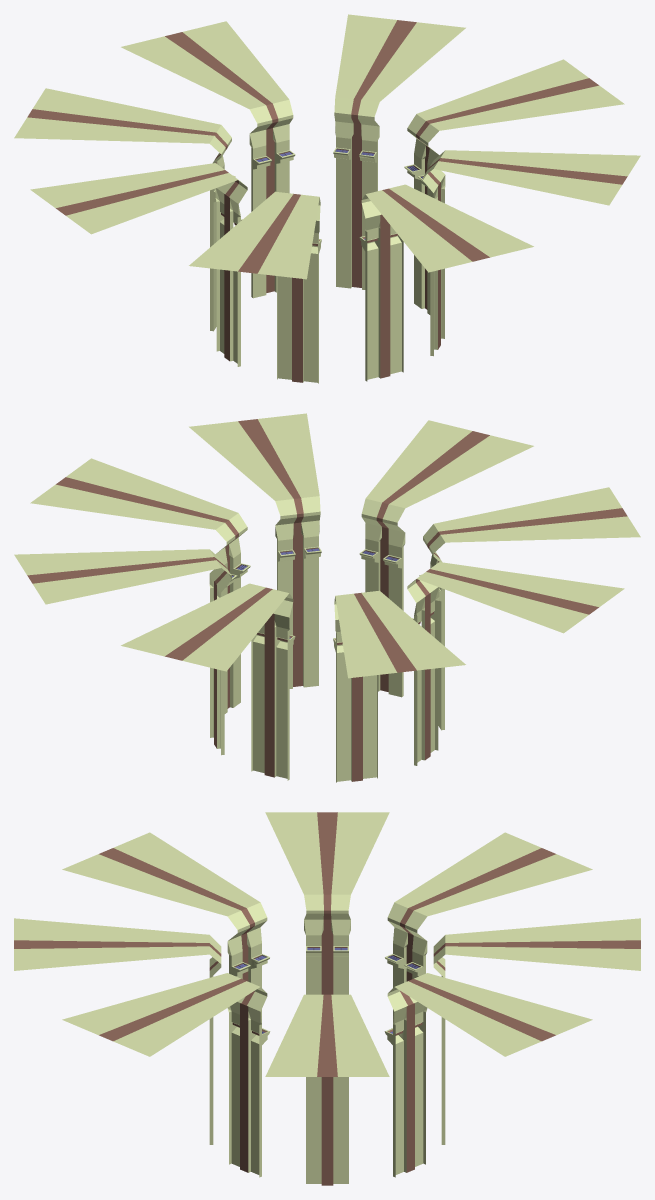
The model's file is Dragonfly_Gears_PlatformWalls.fbx.
The picture shows the model from 3 angles, top to bottom: view 1: azimuth 30°, elevation 25°; view 2: azimuth 150°, elevation 25°; view 3: azimuth 270°, elevation 25°; orthographic projection.
Parts seen in each view (by area): view 1: Platform_Walls; view 2: Platform_Walls; view 3: Platform_Walls.
Boxes of the visible parts, <box> form: Platform_Walls: <box>14,14,640,383</box>; Platform_Walls: <box>14,413,640,782</box>; Platform_Walls: <box>14,812,640,1185</box>.
Bounding box in the file's own units: 321 × 108 × 321.
